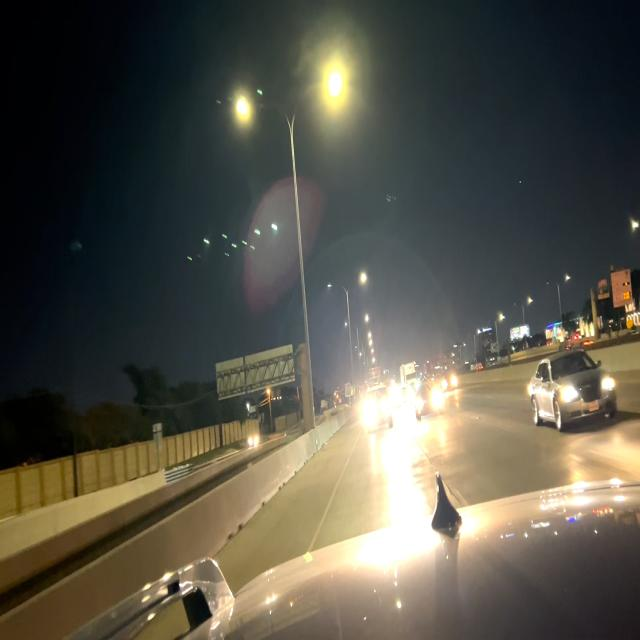back-of-sign: (215, 346, 296, 403)
